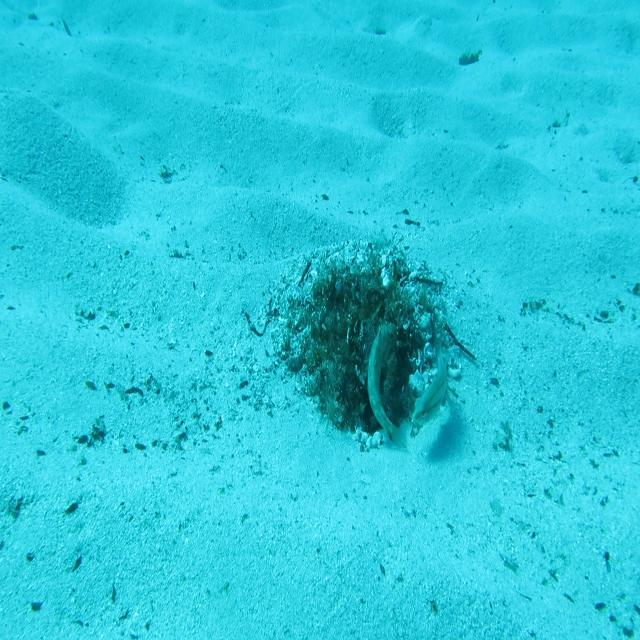DAN_CIRC: (365, 318, 411, 452)
core_nest: (338, 288, 380, 334)
female: (410, 332, 448, 428)
nest: (253, 211, 468, 465)
vegetation: (457, 48, 484, 69)
